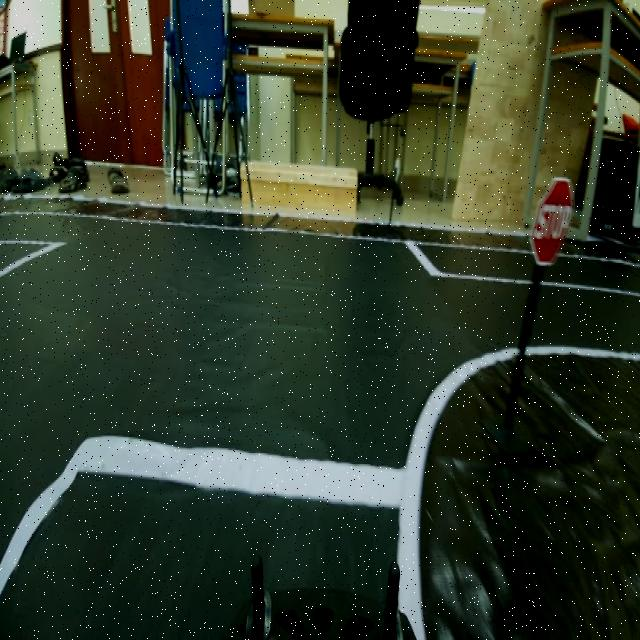stop: (526, 166, 576, 270)
